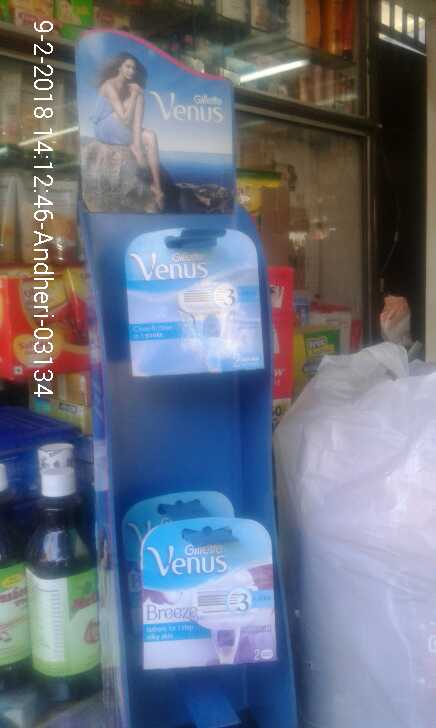beauty: (128, 502, 284, 670), (122, 224, 269, 377)
